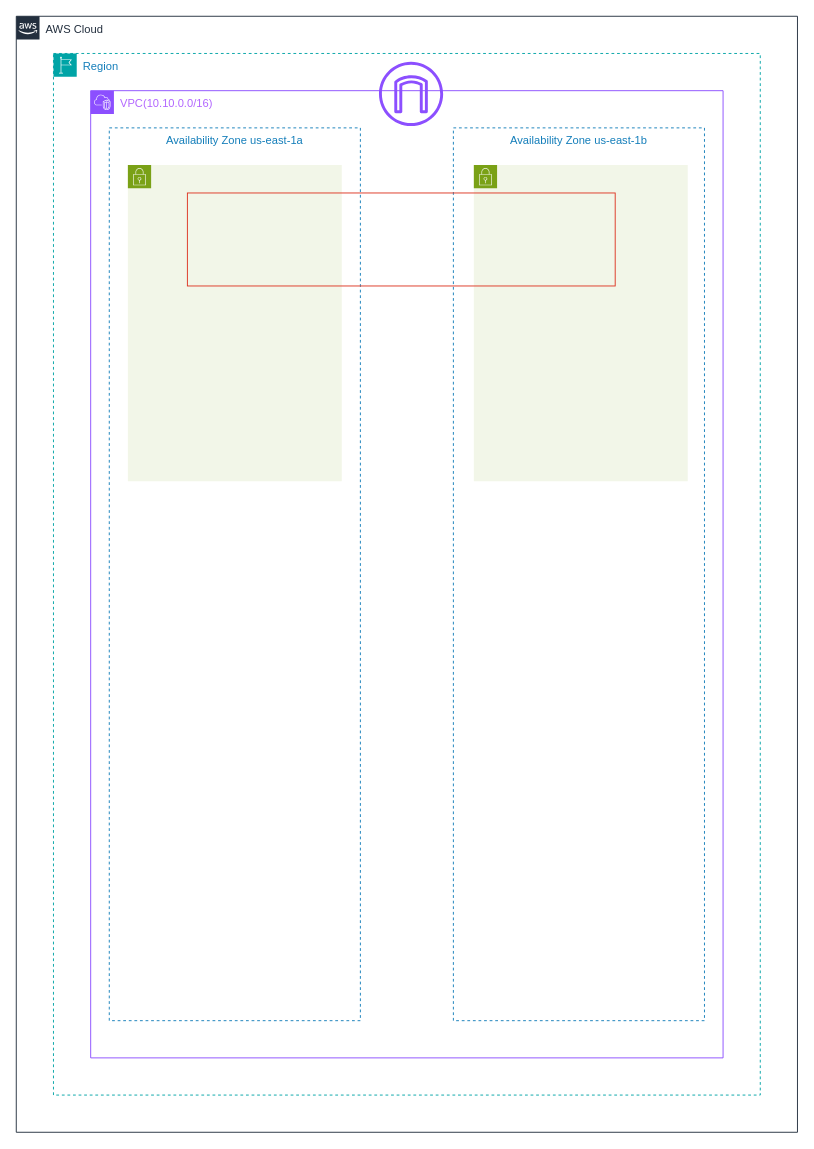
The diagram is 814 pixels wide and 1149 high, and some of its shapes have lost their labels. The centre of each missing label's shape, as x and y in pixels:
"Public subnet 10.0.1.0/24" belongs at (x=234, y=322).
"Public subnet 10.0.2.0/24" belongs at (x=580, y=322).
"Security group" belongs at (x=400, y=239).
